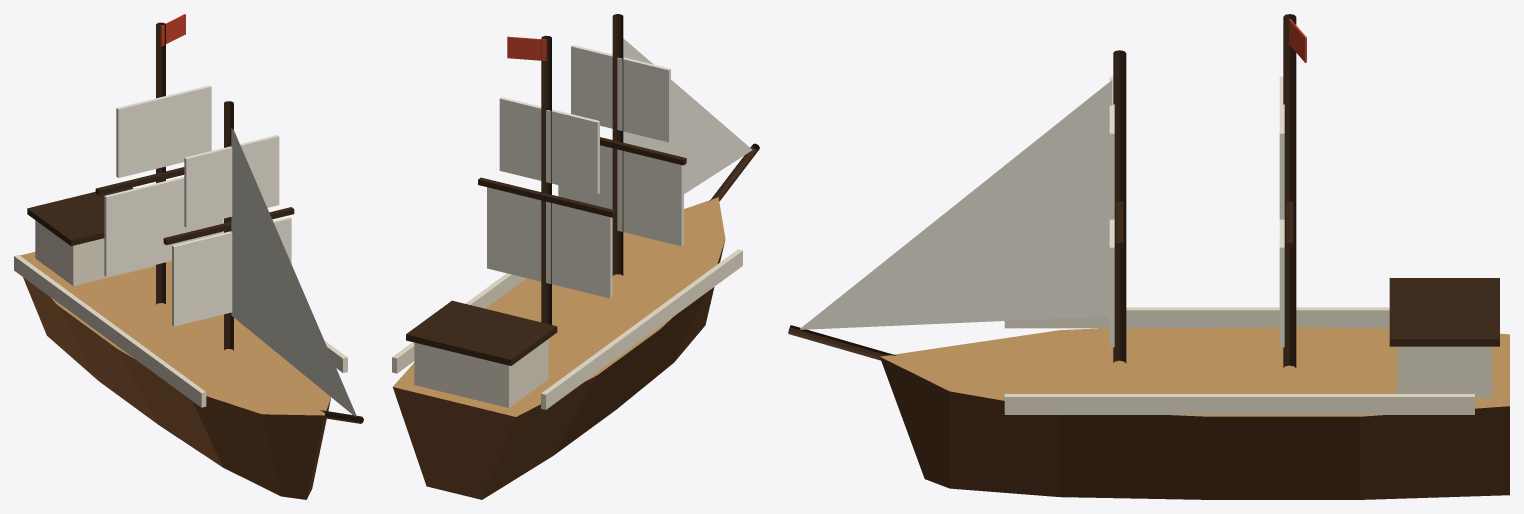
Rendered from clipper.glb.
3 views of the same model, side by side, from view 1: azimuth 30°, elevation 25°; view 2: azimuth 150°, elevation 25°; view 3: azimuth 270°, elevation 25° (orthographic). The views are drawn at different scales.
Visible parts, largest first — view 1: Hull, Jib, MainSailHigh, MainSailLow, ForeSailLow, ForeSailHigh, RailL, CabinRoof, Cabin, MainMast, ForeMast, ForeYard (+2 smaller); view 2: Hull, MainSailLow, MainSailHigh, ForeSailHigh, ForeSailLow, CabinRoof, Cabin, Jib, RailL, ForeMast, MainMast, RailR (+4 smaller); view 3: Hull, Jib, RailR, CabinRoof, RailL, Cabin, MainMast, ForeMast, Bowsprit, MainSailHigh, ForeSailLow, MainSailLow.
Part boxes in pixels (box(x1,y1,x2,y2)): Hull: box(20, 252, 330, 499); Jib: box(231, 128, 356, 416); MainSailHigh: box(116, 85, 211, 177); MainSailLow: box(104, 176, 223, 276); ForeSailLow: box(172, 217, 291, 326); ForeSailHigh: box(184, 135, 279, 227); RailL: box(14, 255, 206, 407); CabinRoof: box(27, 187, 133, 246); Cabin: box(35, 220, 155, 285); MainMast: box(156, 22, 165, 304); ForeMast: box(224, 101, 233, 350); ForeYard: box(163, 207, 294, 245); Hull: box(392, 197, 725, 499); MainSailLow: box(487, 187, 612, 298); MainSailHigh: box(499, 97, 599, 194); ForeSailHigh: box(571, 45, 670, 142); ForeSailLow: box(558, 145, 683, 246); CabinRoof: box(406, 300, 557, 365); Cabin: box(414, 339, 548, 407); Jib: box(623, 38, 752, 233); RailL: box(541, 249, 742, 409); ForeMast: box(612, 14, 623, 276); MainMast: box(541, 35, 551, 324); RailR: box(392, 273, 526, 373); Hull: box(880, 327, 1509, 499); Jib: box(800, 80, 1112, 329); RailR: box(1004, 394, 1474, 414); CabinRoof: box(1389, 278, 1499, 346); RailL: box(1004, 307, 1389, 328); Cabin: box(1397, 346, 1492, 397); MainMast: box(1283, 14, 1296, 367); ForeMast: box(1113, 50, 1126, 363); Bowsprit: box(788, 325, 896, 360); MainSailHigh: box(1279, 76, 1284, 219); ForeSailLow: box(1109, 219, 1114, 347); MainSailLow: box(1279, 219, 1284, 347).
Size of the model in its own units: 4.4 by 10.2 by 14.43.
